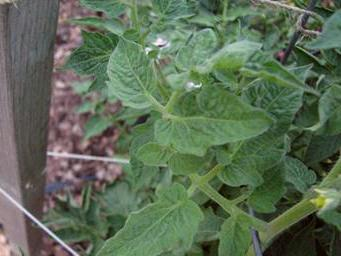Tomato leaf mosaic virus: (72, 180, 212, 256), (152, 84, 280, 158), (106, 38, 162, 116), (173, 27, 225, 72), (217, 208, 260, 256), (216, 157, 266, 191), (139, 144, 175, 167)
